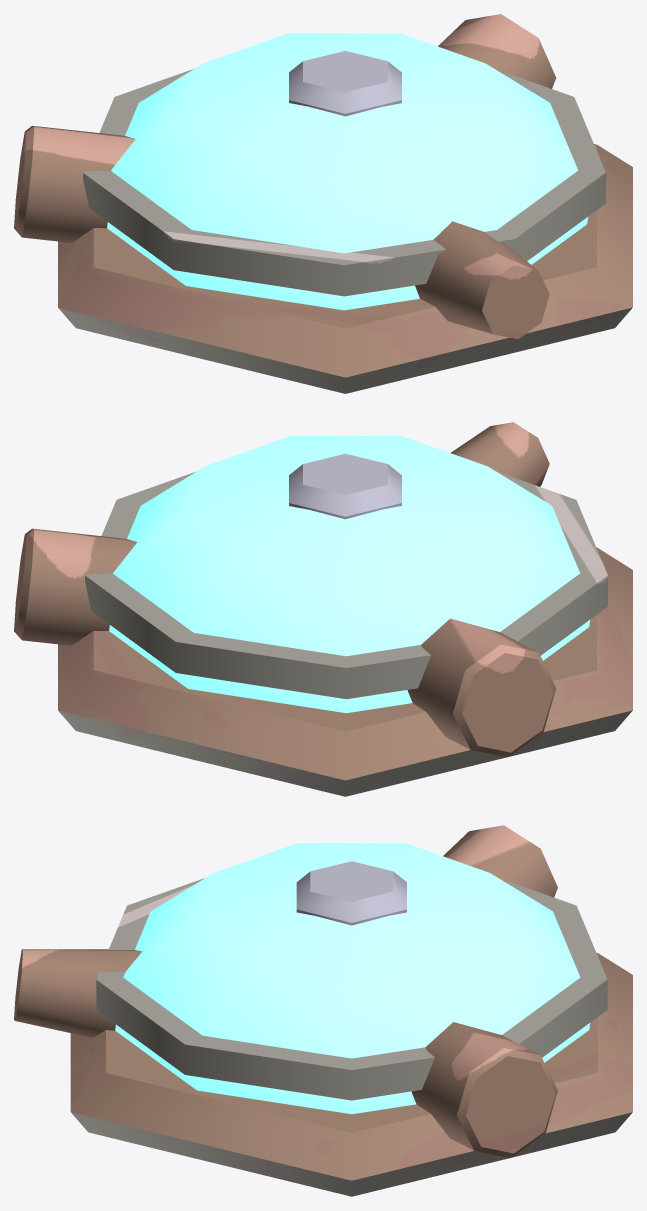
The model's file is R4D_SlowTrap_LOD1.glb.
The picture shows the model from 3 angles, top to bottom: view 1: azimuth 30°, elevation 25°; view 2: azimuth 150°, elevation 25°; view 3: azimuth 270°, elevation 25°; orthographic projection. The views are drawn at different scales.
Parts seen in each view (by area): view 1: R4D_SlowTrap_LOD1; view 2: R4D_SlowTrap_LOD1; view 3: R4D_SlowTrap_LOD1.
Boxes of the visible parts, x1=… form: R4D_SlowTrap_LOD1: x1=14, y1=14, x2=632, y2=393; R4D_SlowTrap_LOD1: x1=14, y1=422, x2=632, y2=796; R4D_SlowTrap_LOD1: x1=14, y1=825, x2=632, y2=1196.
Bounding box in the file's own units: 0.48 × 0.1523 × 0.4576.
Materials: 5 (4 with a texture image).
